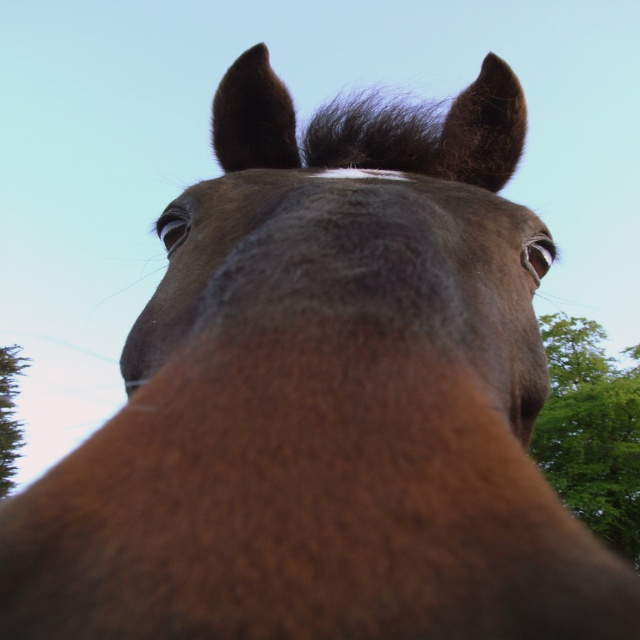Horse: (0, 38, 639, 640)
